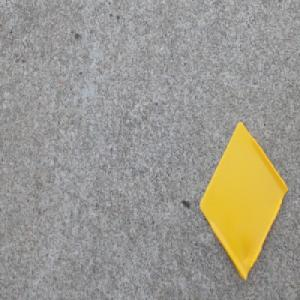PlasticPart: (198, 120, 289, 282)
